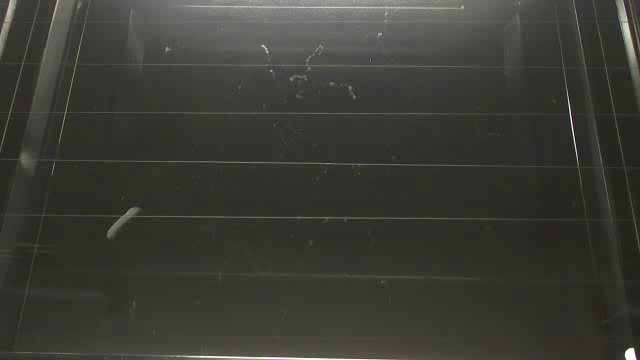Alfa: (105, 205, 142, 243)
